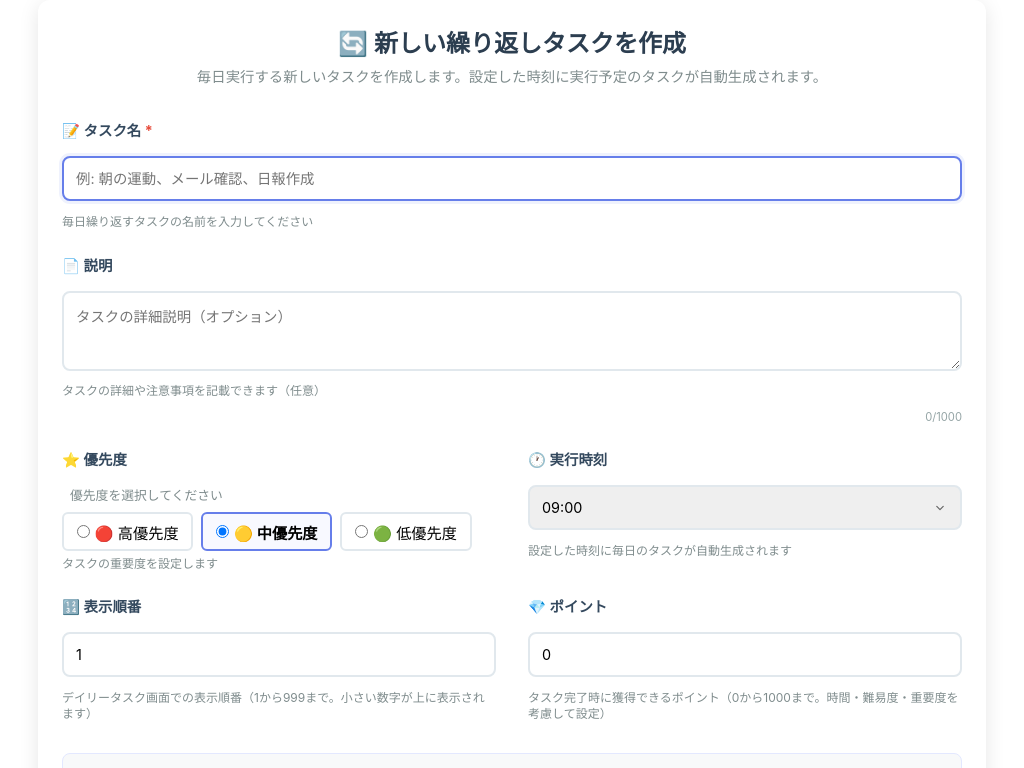
Test: RecurringTaskForm › ユーザーインタラクション › 優先度の変更が正しく動作する
The width and height of the screenshot is (1024, 768).
Click the radio button labelled "🟢 低優先度" at (362, 532), box [355, 525, 368, 538]
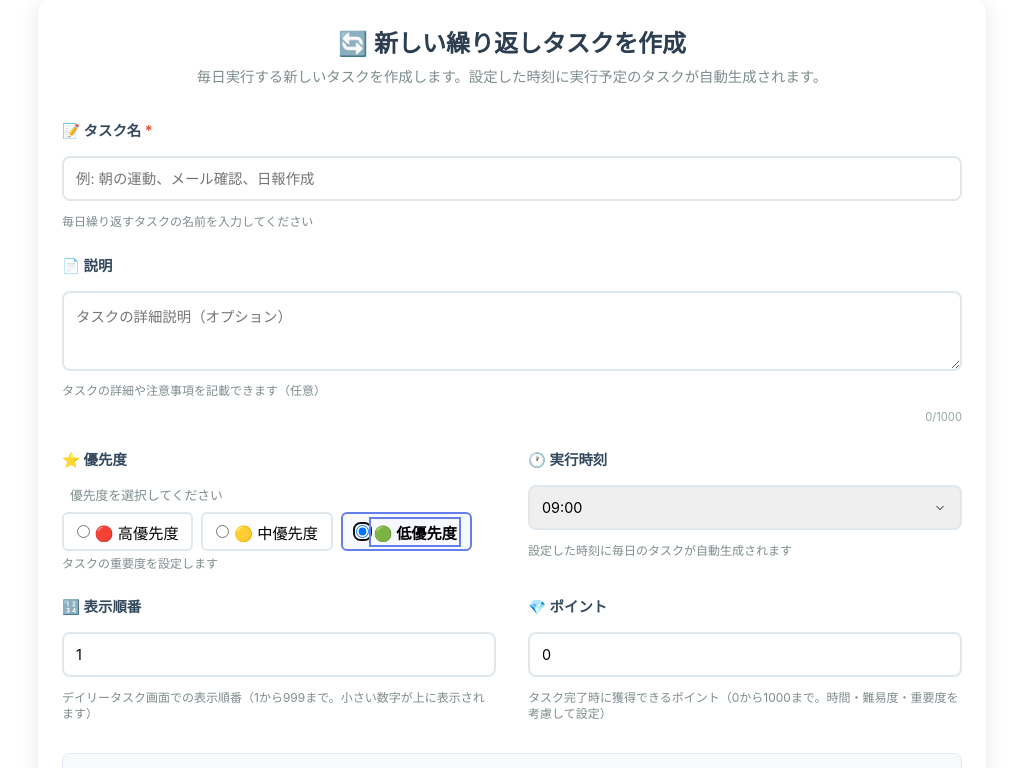
Check: the radio button labelled "🟢 低優先度" is checked, box [356, 525, 369, 538]
Check: the radio button labelled "🟡 中優先度" is not checked, box [216, 525, 229, 538]
